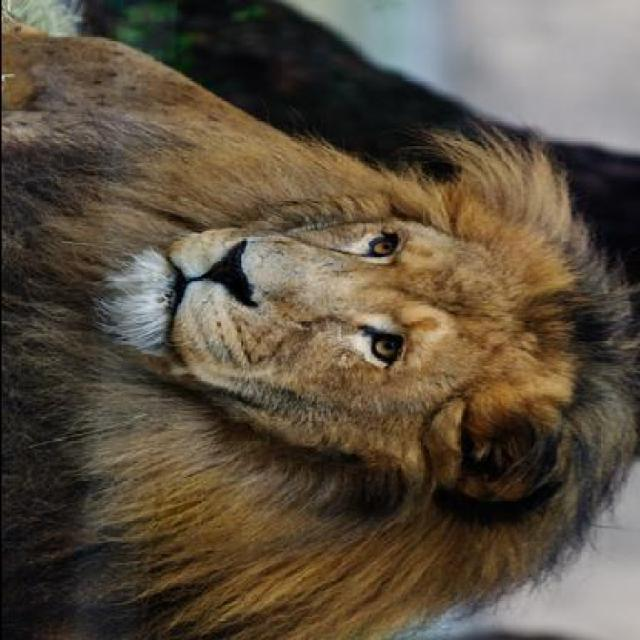Lion: (0, 25, 634, 637)
